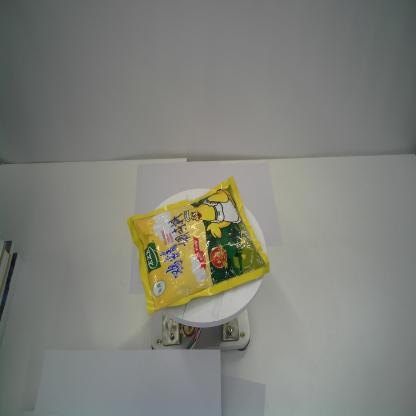Seasoner: (124, 174, 270, 316)
